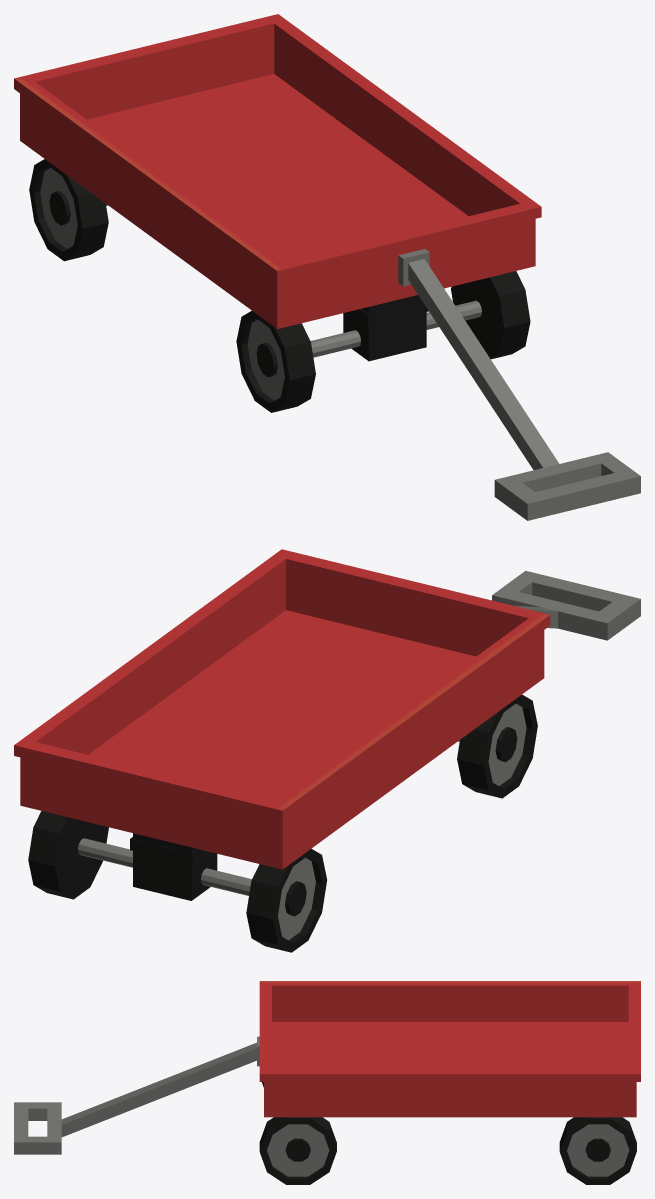
File: Trolley.fbx
The picture shows the model from 3 angles, top to bottom: view 1: azimuth 30°, elevation 25°; view 2: azimuth 150°, elevation 25°; view 3: azimuth 270°, elevation 25°; orthographic projection. The views are drawn at different scales.
Parts seen in each view (by area): view 1: Cylinder.1350; view 2: Cylinder.1350; view 3: Cylinder.1350.
Boxes of the visible parts, box(x1,y1,x2,y2) form: Cylinder.1350: box(14, 14, 640, 520); Cylinder.1350: box(14, 549, 640, 952); Cylinder.1350: box(14, 981, 640, 1184).
Bounding box in the file's own units: 120 × 68.42 × 339.
Materials: 1 (1 with a texture image).
